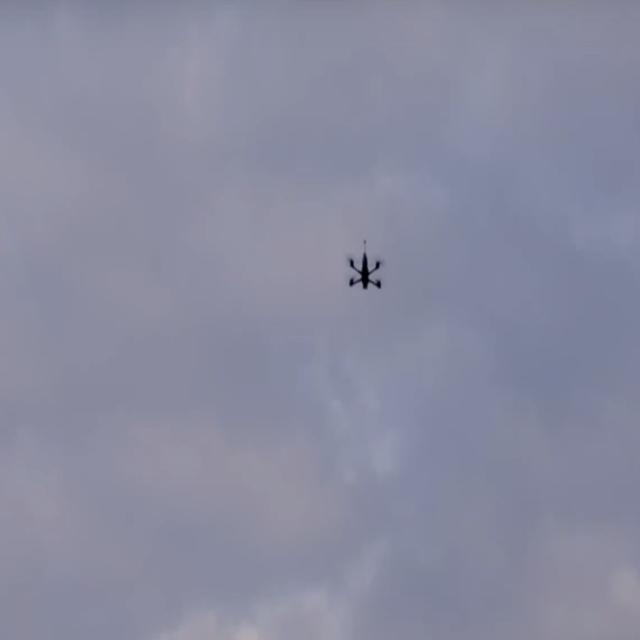drone: (345, 237, 385, 295)
